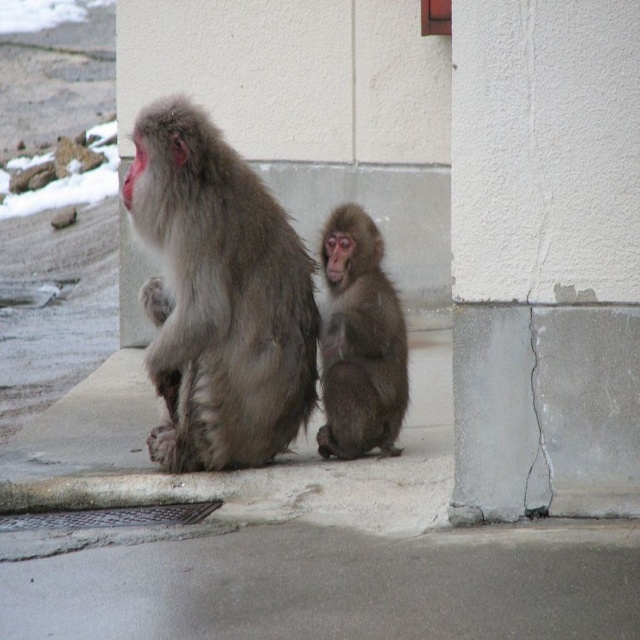Monkey: (122, 91, 322, 471), (315, 203, 412, 466)
